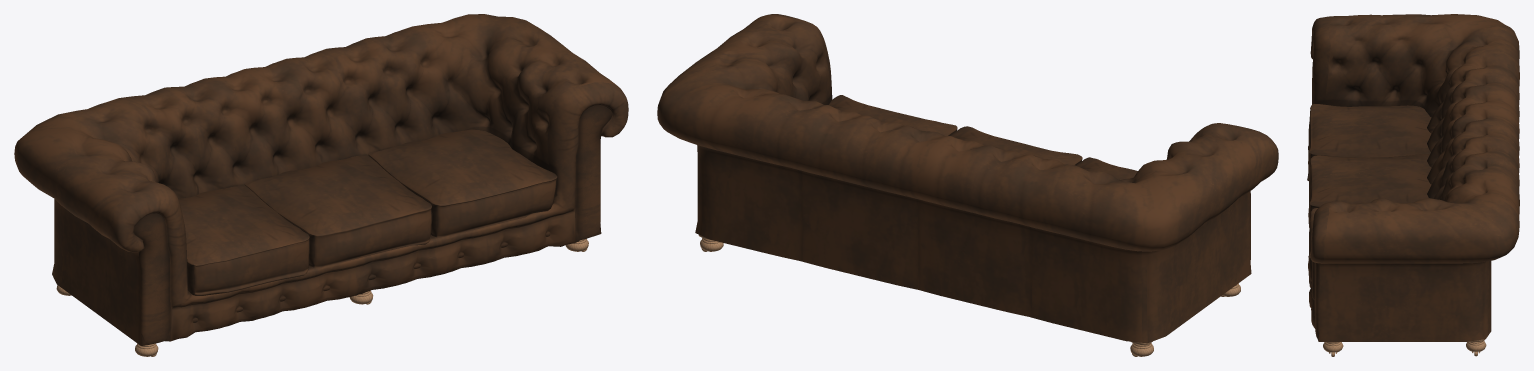
3 views of the same model, side by side, from view 1: azimuth 30°, elevation 25°; view 2: azimuth 150°, elevation 25°; view 3: azimuth 270°, elevation 25° (orthographic). The views are drawn at different scales.
Visible parts, largest first — view 1: Sofa; view 2: Sofa; view 3: Sofa.
Part boxes in pixels (bbox=[...]): Sofa: bbox=[14, 14, 628, 356]; Sofa: bbox=[657, 14, 1278, 356]; Sofa: bbox=[1307, 14, 1519, 356].
Size of the model in its own units: 2.41 by 0.7826 by 0.9947.
Materials: 2 (2 with a texture image).
